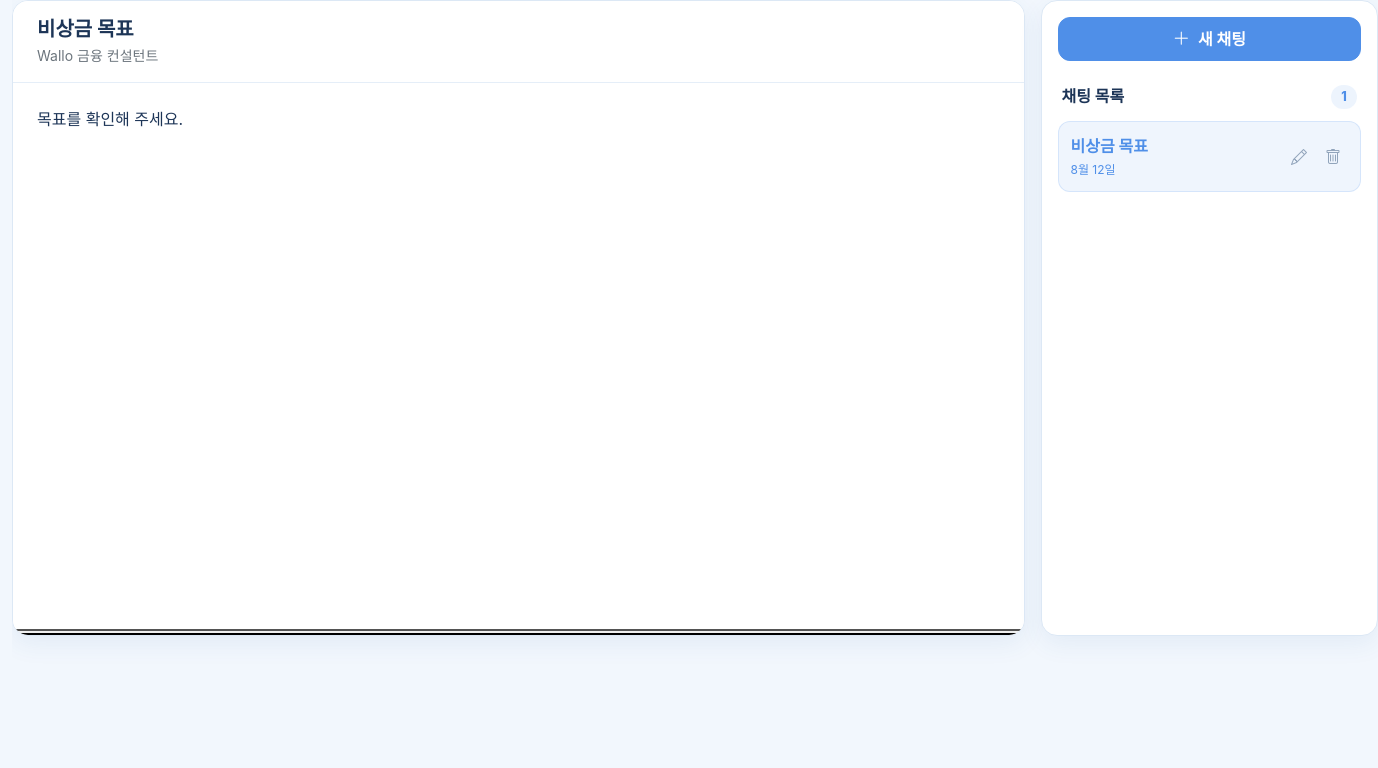
ChatView › renders a chat rate-limit error in the page error area without alert
This screenshot has width=1378, height=768.
What coordinates should you click on to do the following:
click the button with class "stub-input"
I would click on:
 (518, 632)
Its box is [13,629,1024,635].
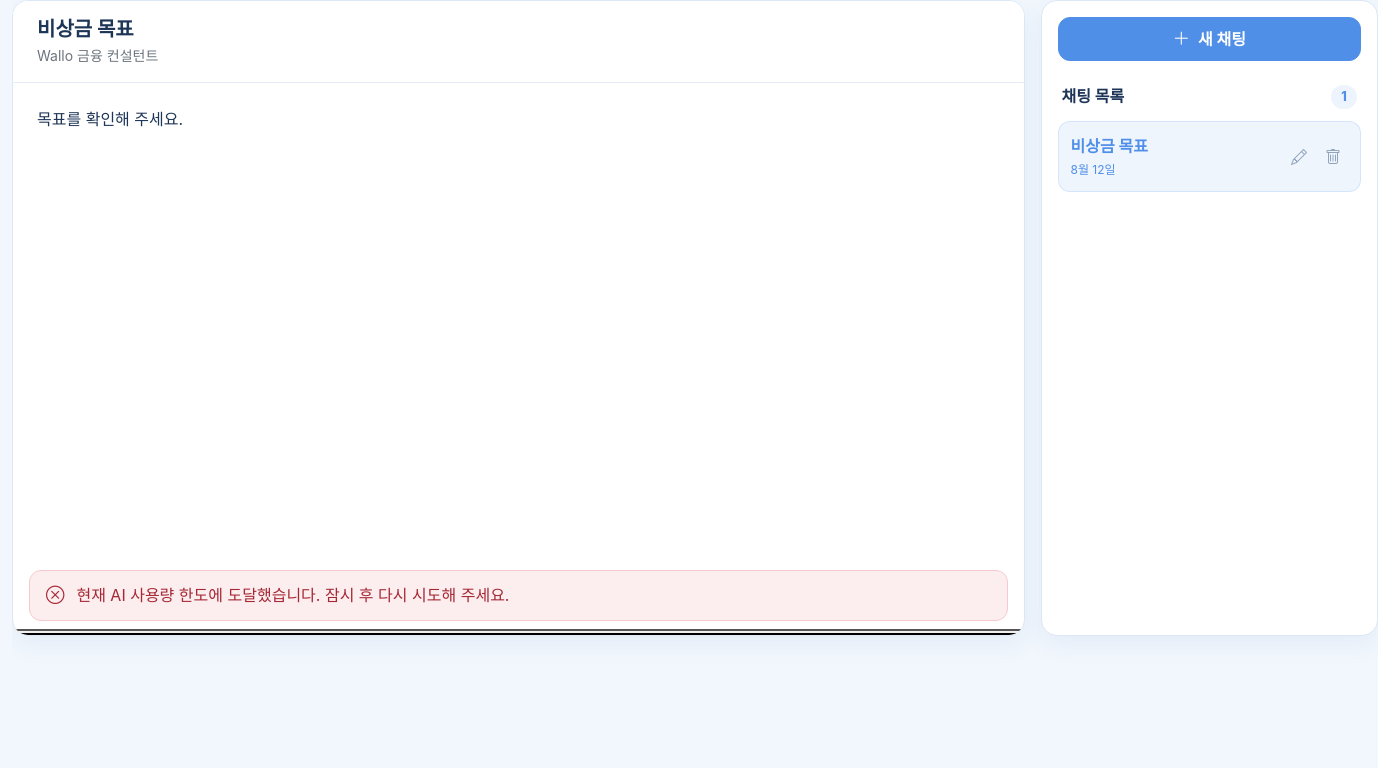
Expected: the message with class "app-alert--danger" reads "현재 AI 사용량 한도에 도달했습니다. 잠시 후 다시 시도해 주세요.", [76,585,510,605]
